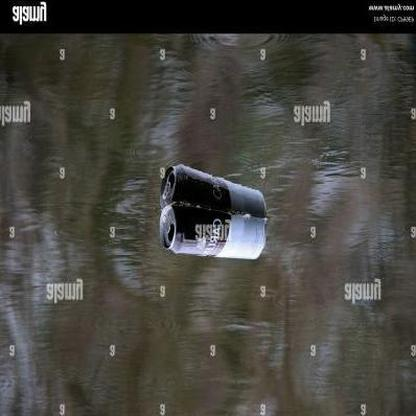can: (159, 206, 265, 263)
